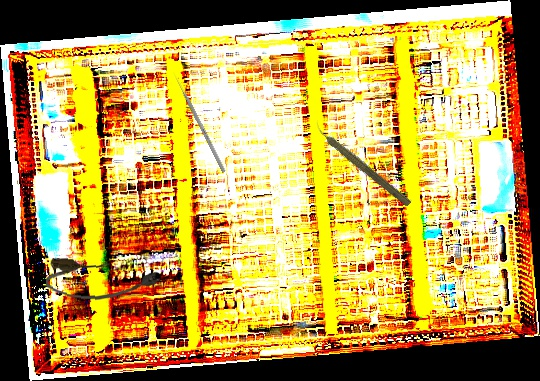Cannula: (44, 257, 162, 305)
Handpiece: (309, 119, 415, 209)
Pusher: (171, 71, 227, 173)
